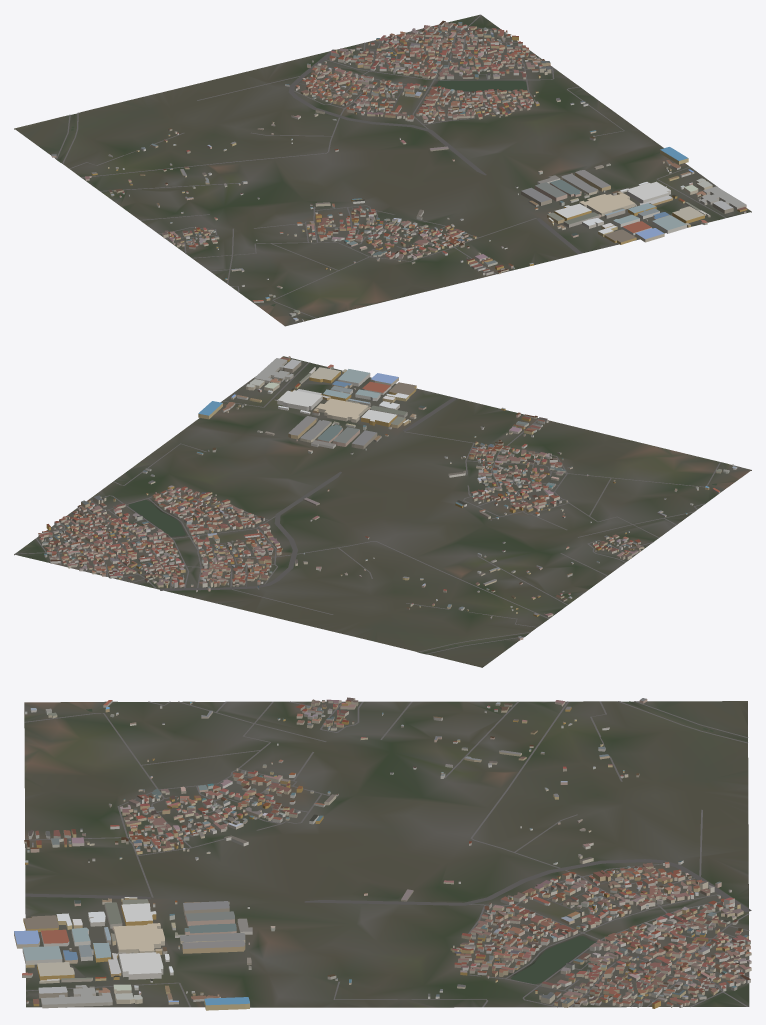
3 views of the same model, one above another, from view 1: azimuth 30°, elevation 25°; view 2: azimuth 150°, elevation 25°; view 3: azimuth 270°, elevation 25° (orthographic). The views are drawn at different scales.
Parts seen in each view (by area): view 1: ground, buildings, roads, water; view 2: ground, buildings, roads, water; view 3: ground, buildings, roads, water.
Part boxes in pixels (x1=…): ground: x1=14, y1=14, x2=751, y2=326; buildings: x1=51, y1=20, x2=747, y2=321; roads: x1=56, y1=15, x2=726, y2=318; water: x1=58, y1=80, x2=526, y2=306; ground: x1=14, y1=356, x2=751, y2=667; buildings: x1=38, y1=356, x2=737, y2=640; roads: x1=15, y1=362, x2=720, y2=654; water: x1=129, y1=483, x2=716, y2=647; ground: x1=24, y1=701, x2=749, y2=1007; buildings: x1=14, y1=697, x2=751, y2=1010; roads: x1=24, y1=701, x2=751, y2=1007; water: x1=86, y1=701, x2=713, y2=984.
Bounding box in the file's own units: 1419 × 19.2 × 1430.
